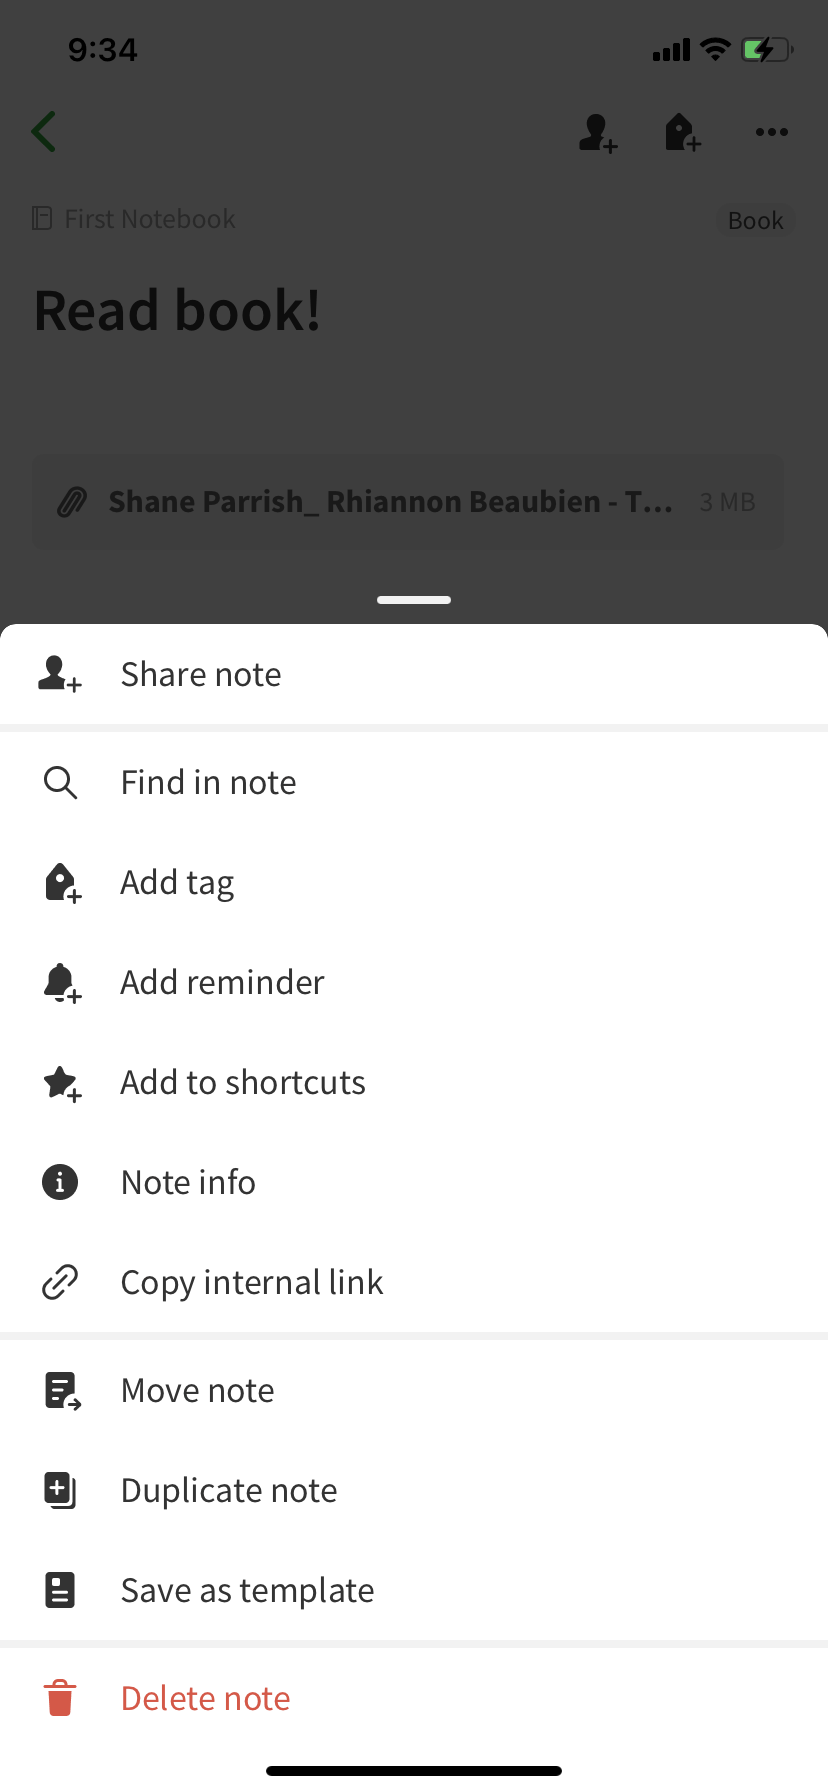Buttons: (554, 90, 640, 169), (7, 91, 88, 174), (738, 91, 807, 170), (651, 91, 720, 170), (707, 193, 797, 248)
